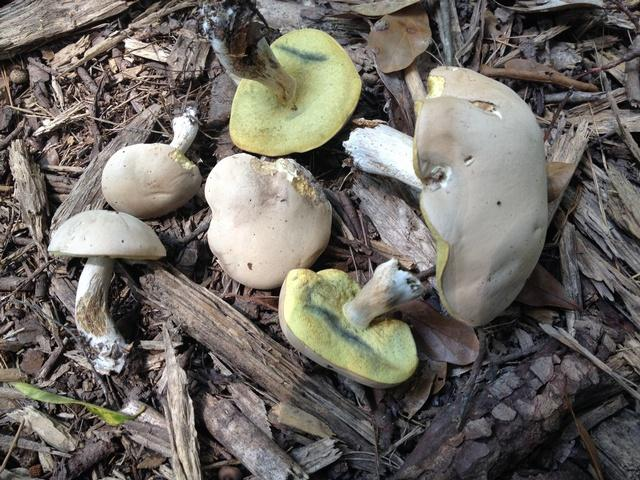edible_mushroom: (342, 64, 549, 327), (46, 208, 166, 375), (277, 257, 426, 389), (203, 152, 332, 290), (227, 27, 361, 156), (100, 107, 202, 218)
